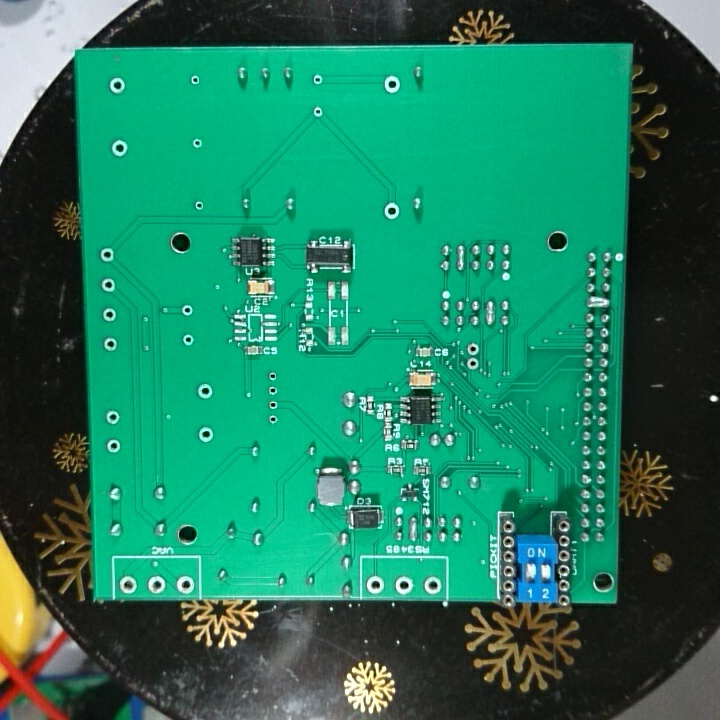F: (116, 572, 141, 596), (381, 198, 403, 224), (106, 76, 132, 98), (365, 570, 387, 596), (421, 574, 444, 598), (144, 573, 169, 595), (108, 138, 132, 160), (381, 73, 404, 95), (173, 574, 196, 596), (393, 573, 416, 595), (195, 380, 216, 402), (196, 423, 216, 445), (98, 245, 119, 265), (104, 435, 124, 455), (101, 335, 121, 354), (102, 408, 123, 426), (99, 305, 119, 323), (463, 340, 484, 356), (464, 356, 482, 373), (189, 135, 205, 154), (190, 198, 209, 214), (101, 275, 117, 294), (310, 72, 327, 89), (188, 73, 204, 90), (310, 104, 325, 122), (180, 300, 195, 318), (265, 410, 281, 426), (181, 330, 196, 347), (264, 385, 282, 399), (264, 367, 279, 383), (267, 398, 283, 412)
P: (584, 294, 613, 309), (454, 242, 467, 275), (483, 298, 496, 326), (408, 513, 418, 544)
